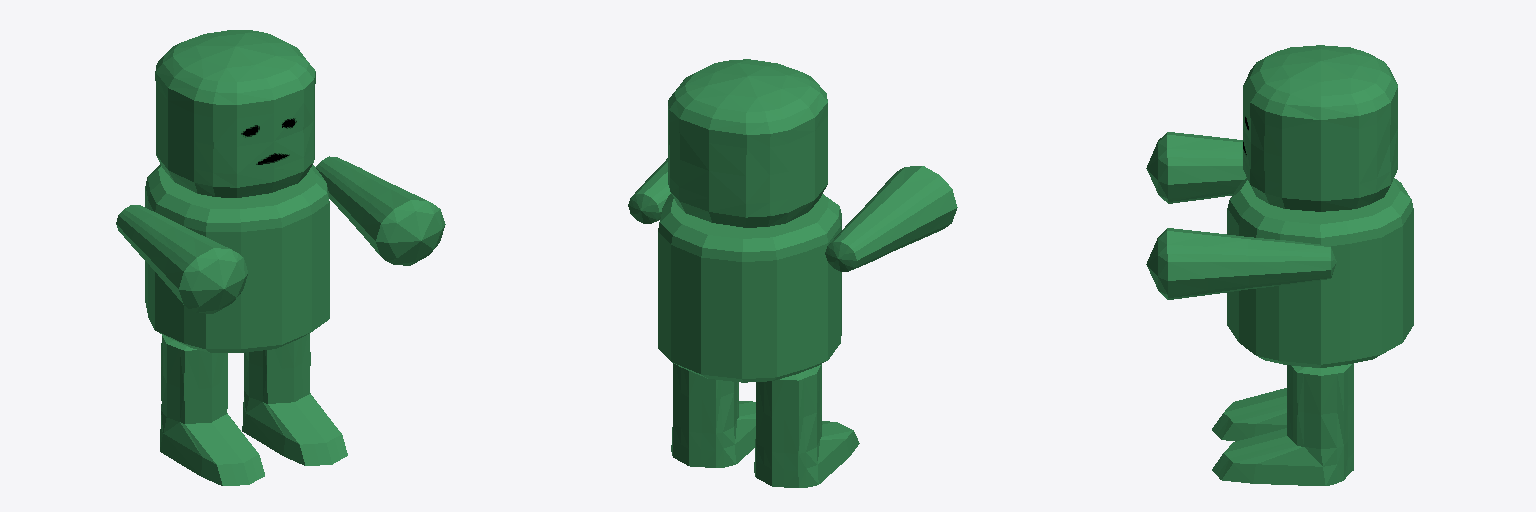
3 renders of one model, left to right at view 1: azimuth 30°, elevation 25°; view 2: azimuth 150°, elevation 25°; view 3: azimuth 270°, elevation 25°, orthographic.
Visible parts, largest first — view 1: 立方体.002; view 2: 立方体.002; view 3: 立方体.002.
Part boxes in pixels (bbox=[...]): 立方体.002: bbox=[116, 30, 445, 485]; 立方体.002: bbox=[628, 59, 957, 487]; 立方体.002: bbox=[1146, 45, 1413, 485].
Size of the model in its own units: 1.97 by 2.75 by 1.71.
1 materials, 1 textured.